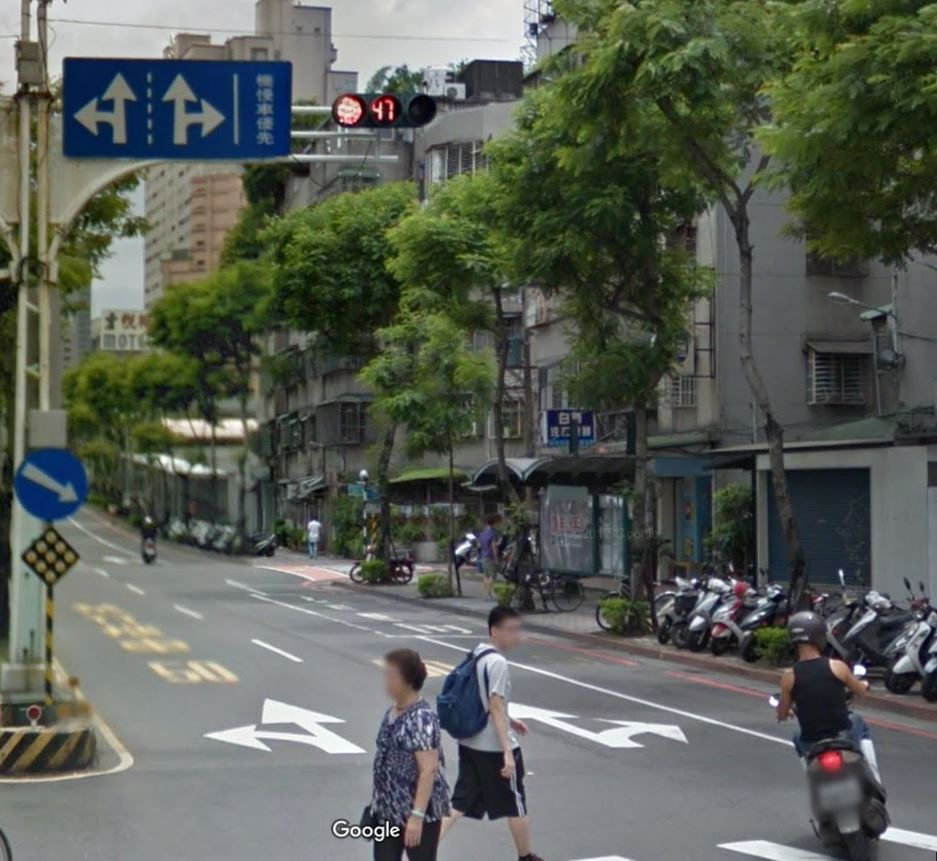Traffic_light_red: (332, 91, 437, 128)
